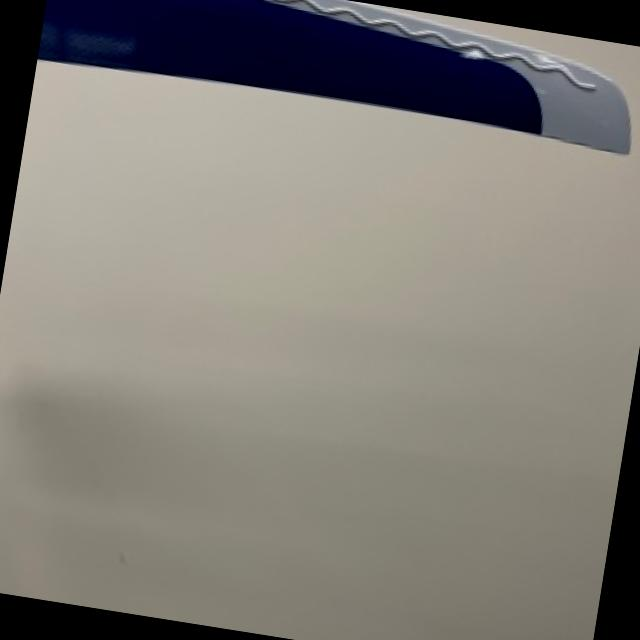healthy: (40, 0, 633, 152)
